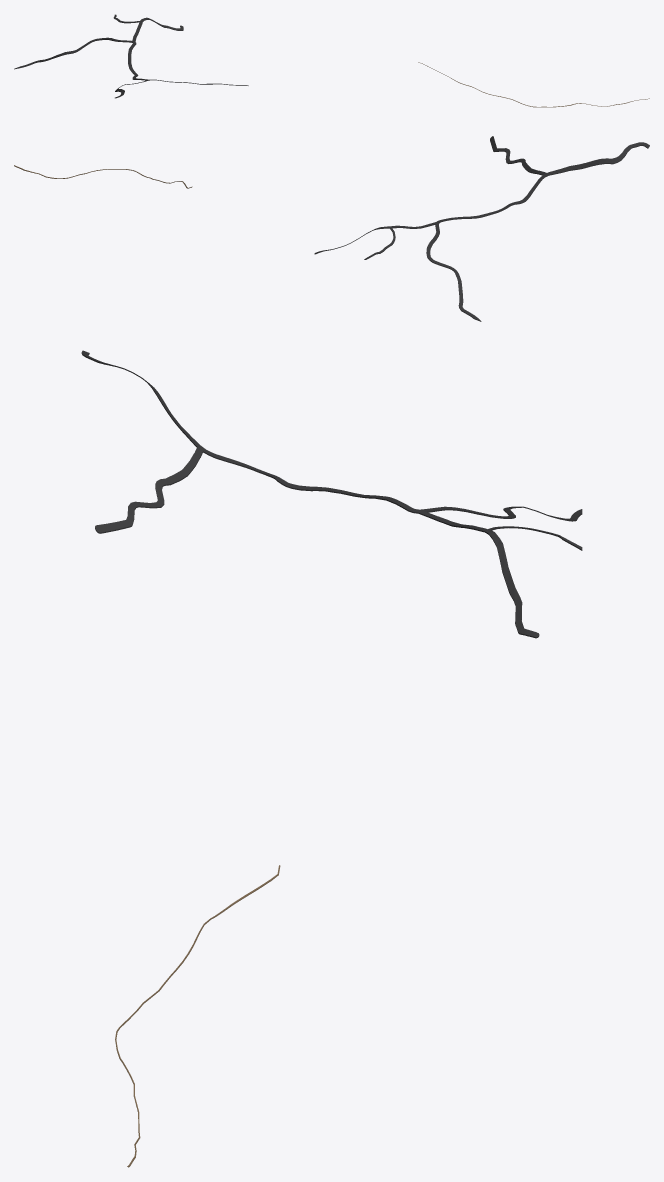
The picture shows the model from 3 angles, top to bottom: view 1: azimuth 30°, elevation 25°; view 2: azimuth 150°, elevation 25°; view 3: azimuth 270°, elevation 25°; orthographic projection. The views are drawn at different scales.
Size of the model in its own units: 1173 by 297 by 467.
